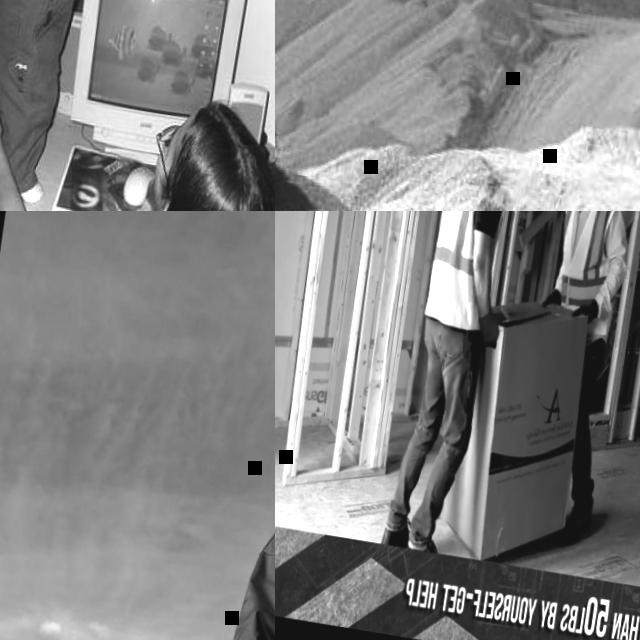NO-Hardhat: (162, 97, 275, 211)
NO-Mask: (144, 149, 176, 211)
NO-Safety Vest: (0, 0, 97, 56)
Person: (372, 211, 543, 558), (503, 211, 640, 545), (0, 63, 275, 211), (180, 223, 275, 640), (0, 0, 157, 211)
Safety Vest: (417, 211, 517, 333), (545, 211, 635, 332)
